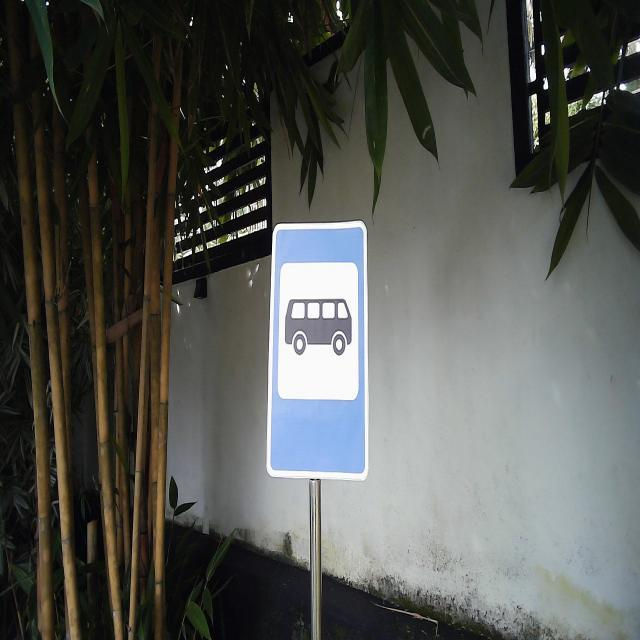bus_stop: (264, 218, 370, 484)
